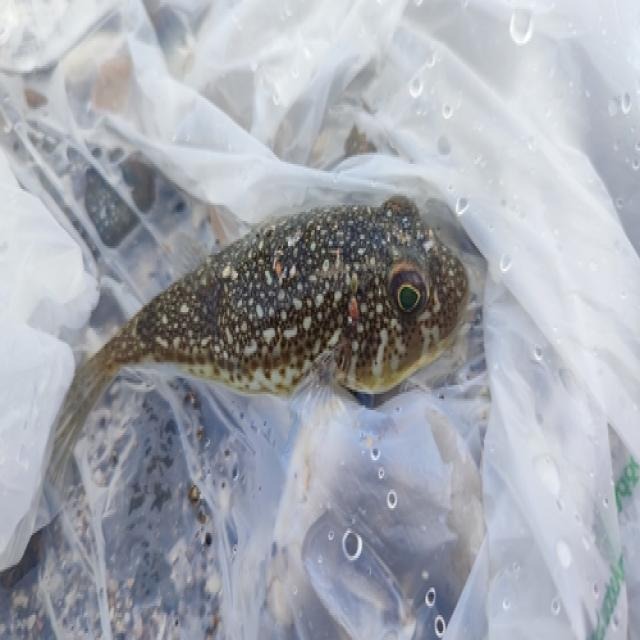Balik: (52, 199, 468, 478)
